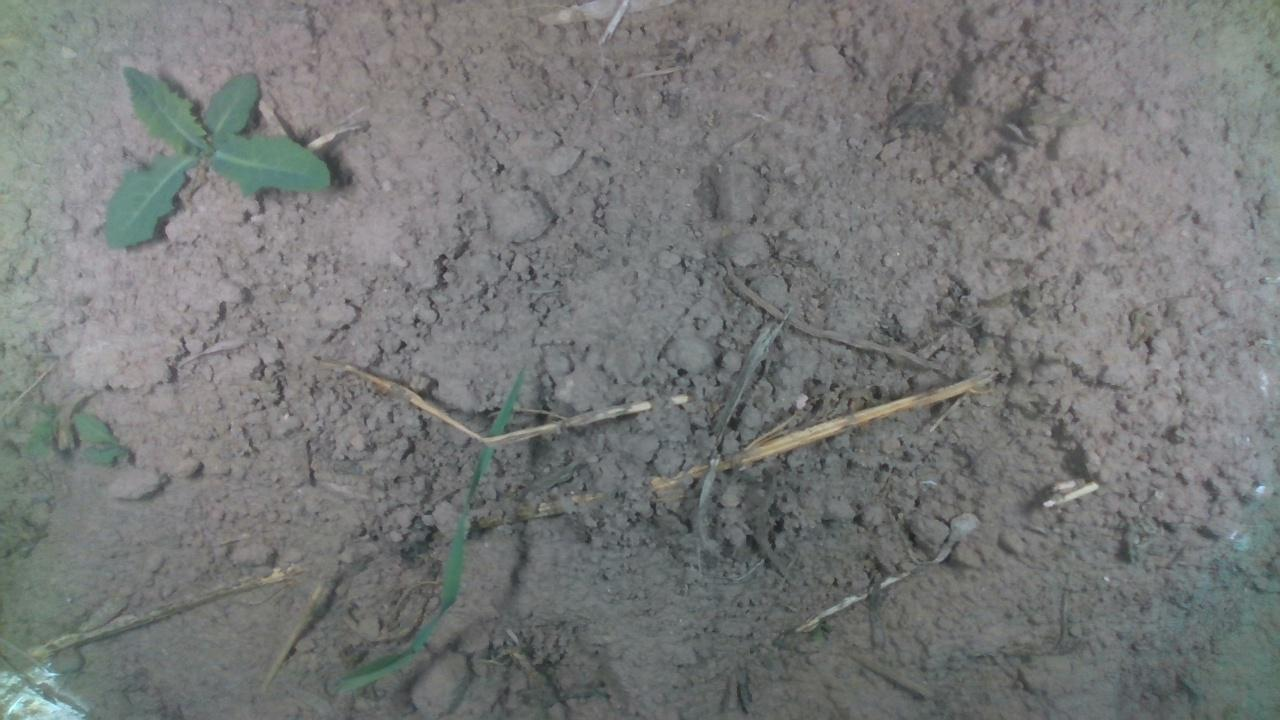weed: (102, 64, 336, 250)
